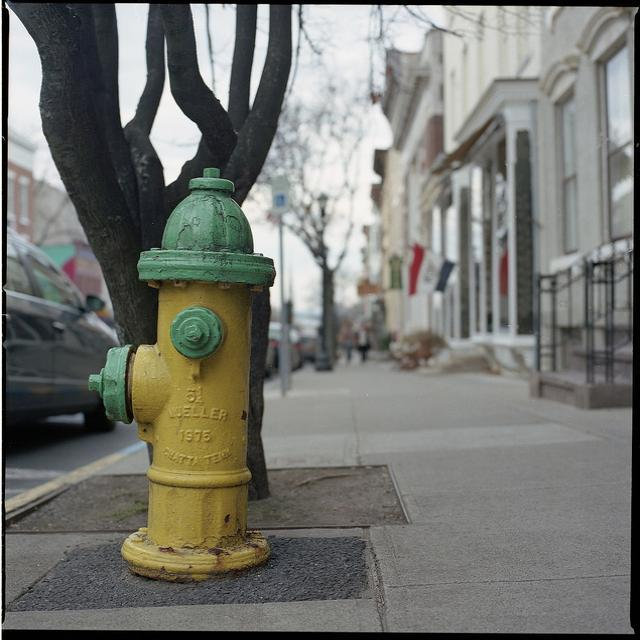fire_hydrant: (82, 166, 274, 580)
